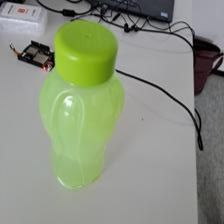bottle: (38, 19, 128, 191)
